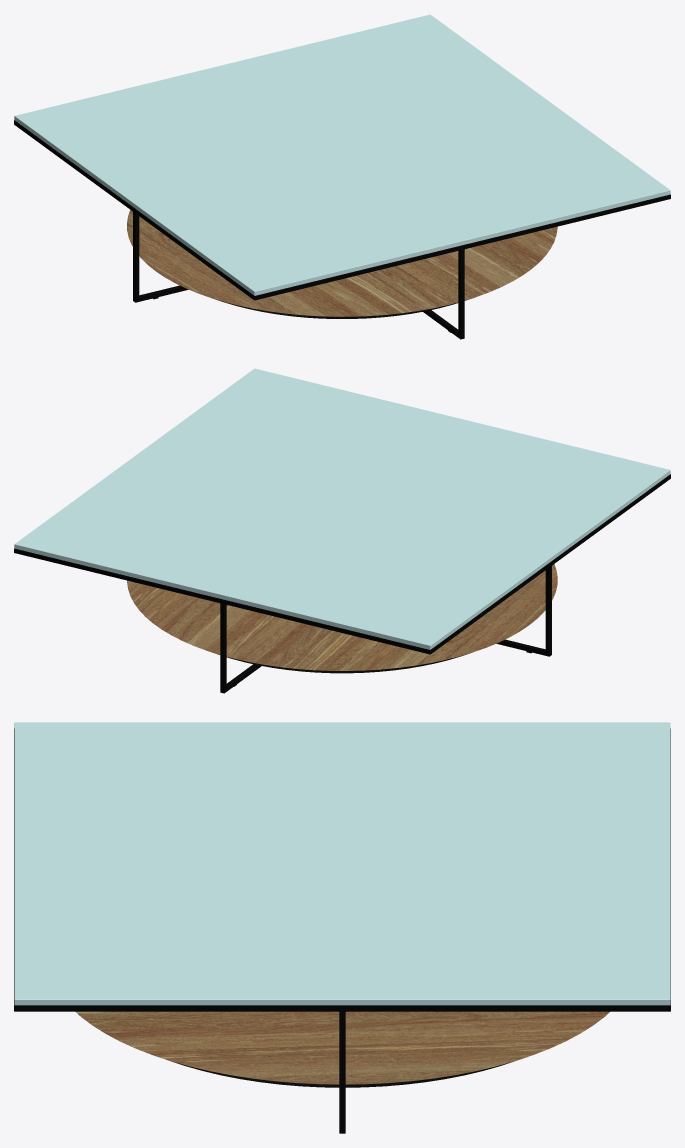
File: Beek_Collection_Bibi_120x120_mat(1).dae
The picture shows the model from 3 angles, top to bottom: view 1: azimuth 30°, elevation 25°; view 2: azimuth 150°, elevation 25°; view 3: azimuth 270°, elevation 25°; orthographic projection. The views are drawn at different scales.
Visible parts, largest first — view 1: _3DGeom_1_Defintion (×3), _3DGeom_2_Defintion, _3DGeom_3_Defintion, _3DGeom_5_Defintion; view 2: _3DGeom_1_Defintion (×3), _3DGeom_2_Defintion, _3DGeom_3_Defintion, _3DGeom_5_Defintion; view 3: _3DGeom_1_Defintion (×3), _3DGeom_2_Defintion, _3DGeom_3_Defintion, _3DGeom_5_Defintion.
Part boxes in pixels (x1,y1,x2,y2): _3DGeom_1_Defintion (×3): (14, 14, 670, 295); _3DGeom_2_Defintion: (127, 210, 557, 316); _3DGeom_3_Defintion: (14, 120, 670, 339); _3DGeom_5_Defintion: (215, 298, 471, 318); _3DGeom_1_Defintion (×3): (14, 368, 670, 649); _3DGeom_2_Defintion: (127, 564, 557, 670); _3DGeom_3_Defintion: (14, 474, 670, 693); _3DGeom_5_Defintion: (217, 653, 469, 673); _3DGeom_1_Defintion (×3): (14, 722, 670, 1005); _3DGeom_2_Defintion: (75, 1011, 609, 1084); _3DGeom_3_Defintion: (14, 728, 670, 1133); _3DGeom_5_Defintion: (171, 1061, 513, 1087).
Size of the model in its own units: 47.24 by 47.24 by 10.83.
Materials: 5 (1 with a texture image).
